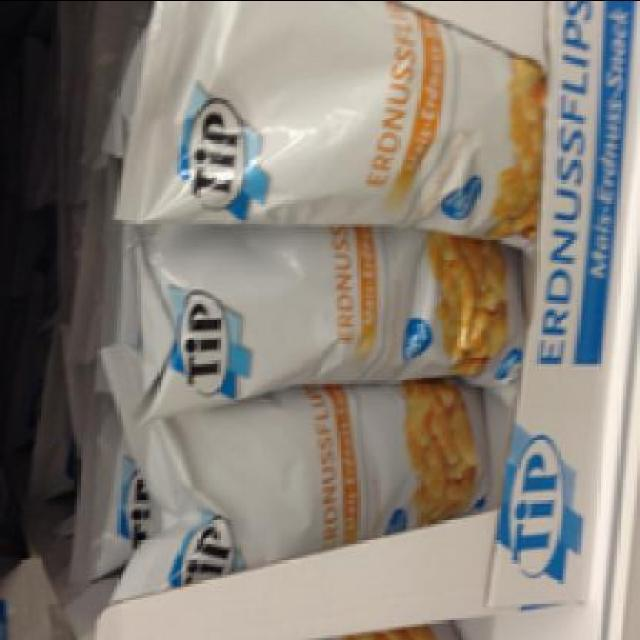Chips: (109, 3, 540, 231), (110, 360, 493, 609), (126, 234, 523, 426)
